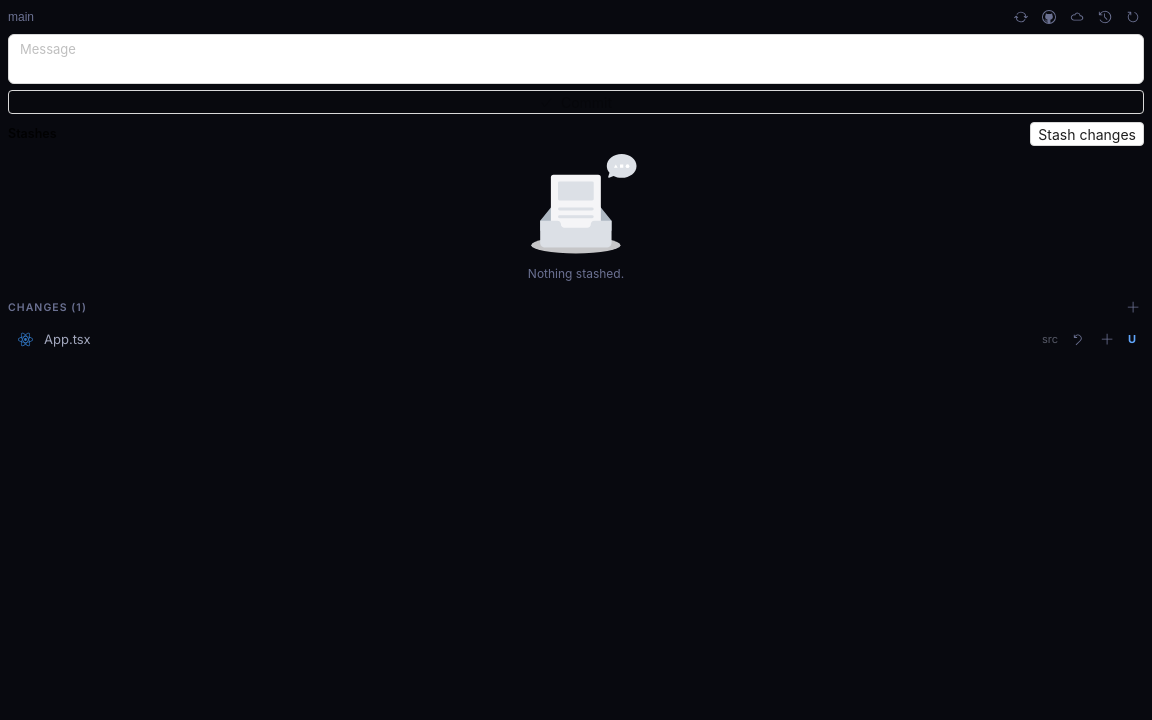
Scenario: SourceControlPanel discarding › warns that a new file is deleted rather than reverted
Expected: the text "App.tsx" is shown, [44,331,91,347]
What coordinates should you click on to do the following:
click the button named "Discard changes to src/App.tsx"
I would click on:
 (1077, 339)
Its box is [1066,328,1088,350].
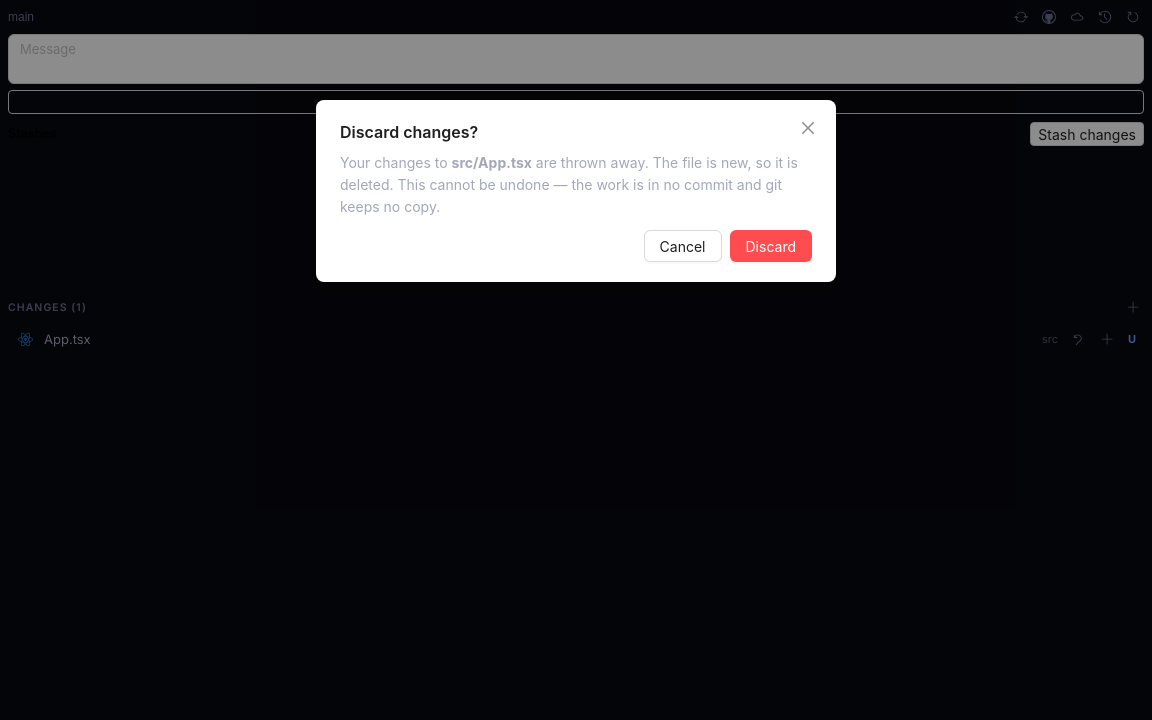
Now the text "it is deleted" is shown, box [340,154,798,193]
